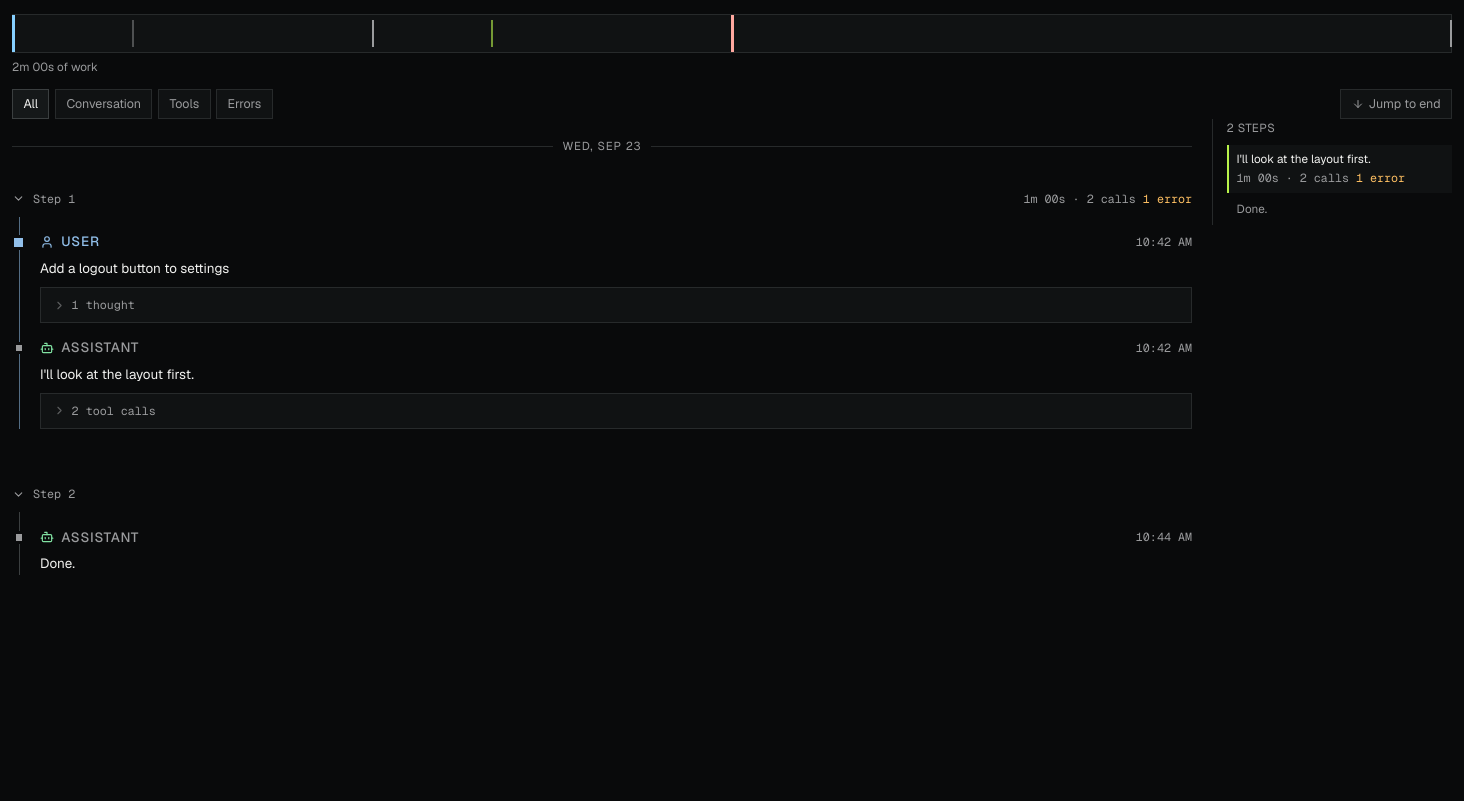
Test: TranscriptView › clicking a tool row summary expands that row's payload
Step 1. Click the button "1 thought" → (103, 305), box [41,288,1191,322]
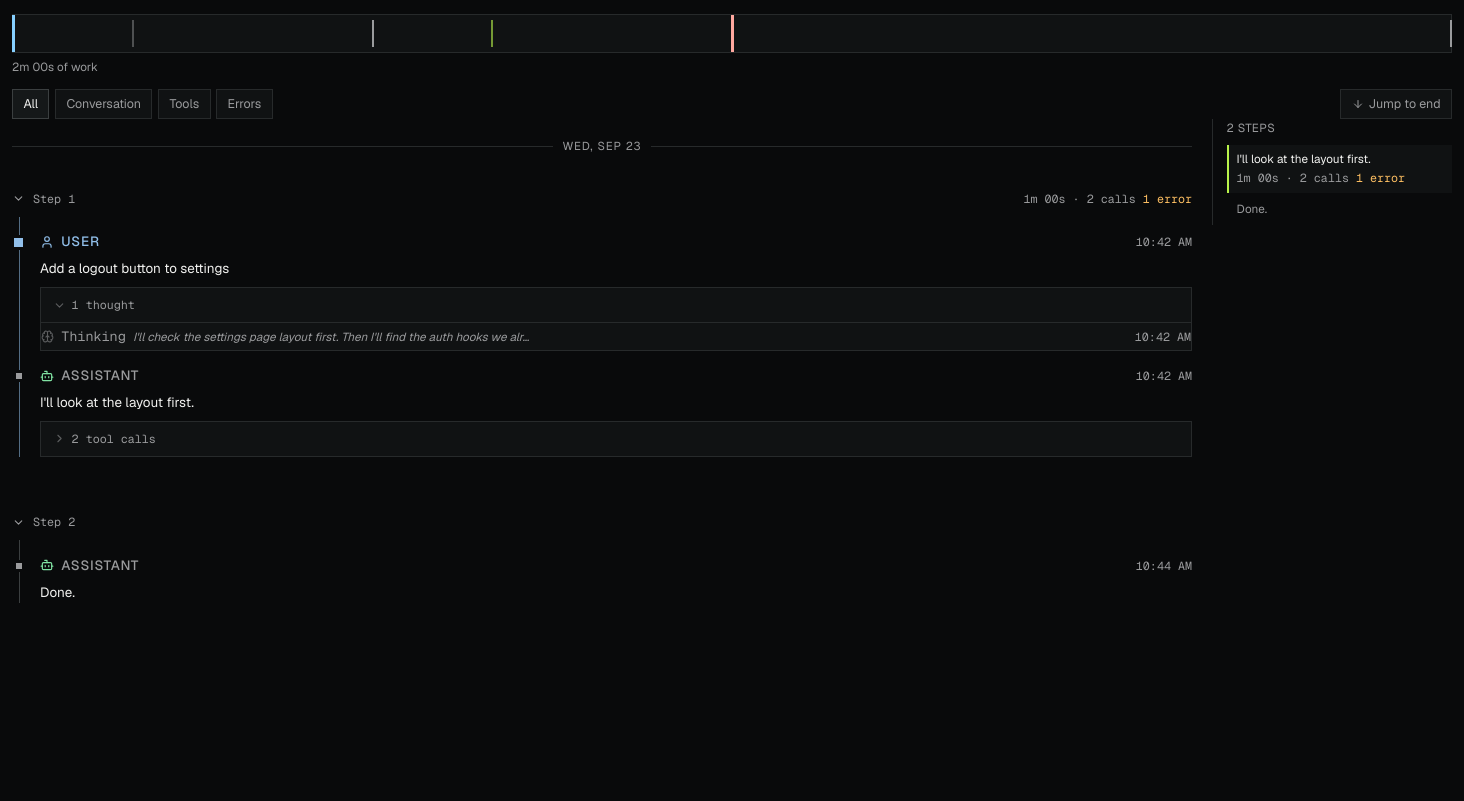
Step 2. Click the button "2 tool calls" → (114, 439), box [41,422,1191,456]
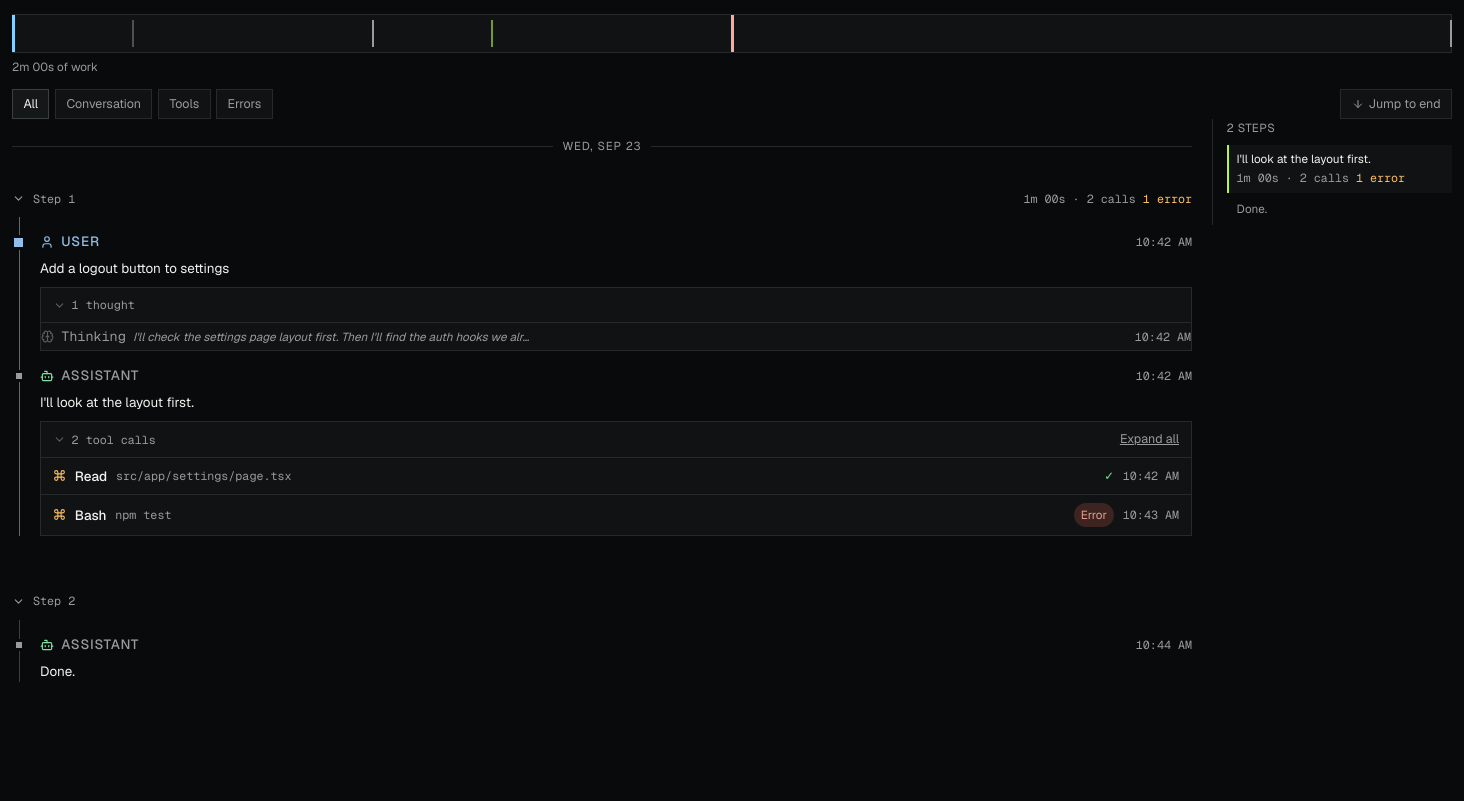
Step 3. Click the text "Read" → (91, 476), box [75,466,107,486]
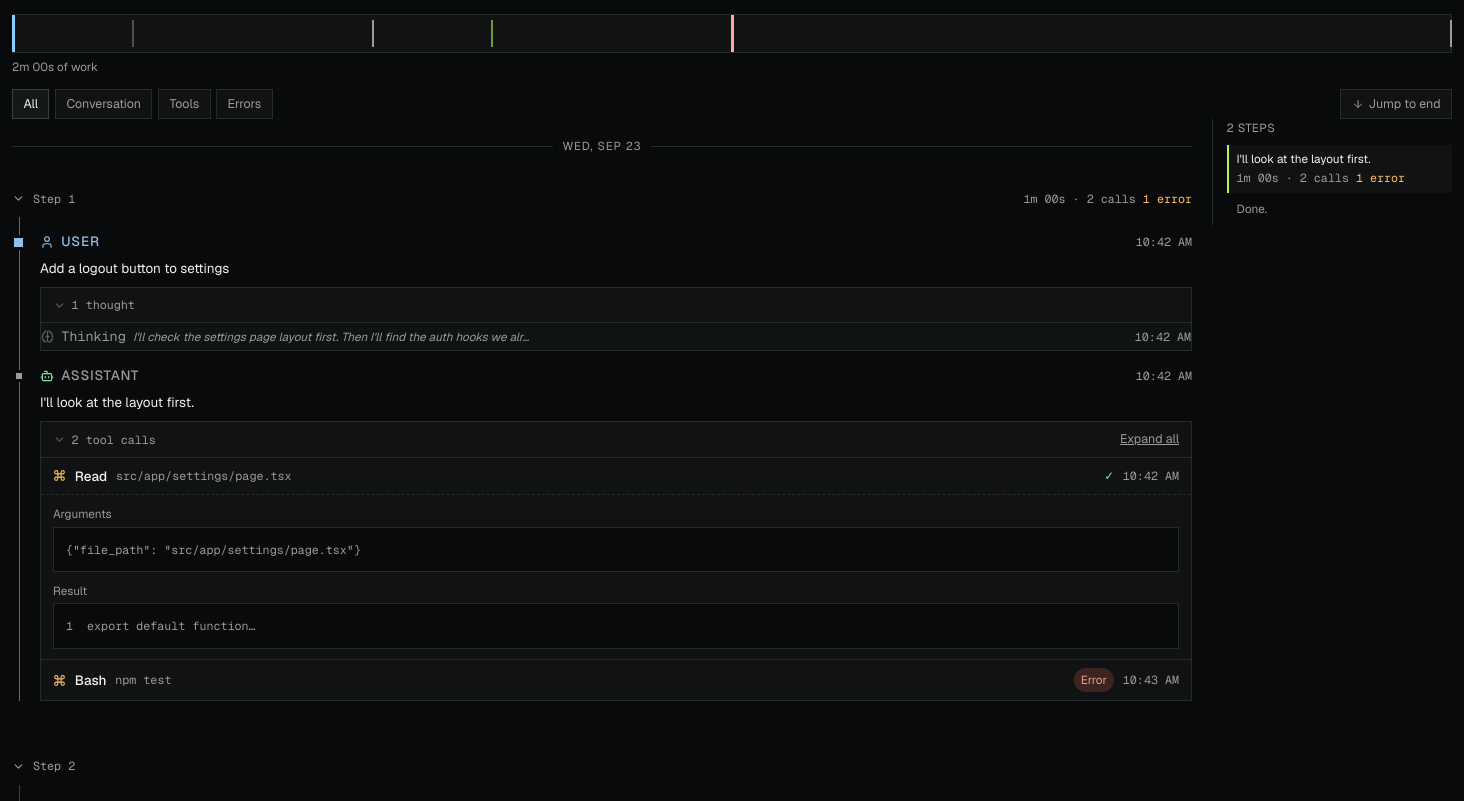
Check: the text "Arguments" is shown, box [53,506,112,521]
